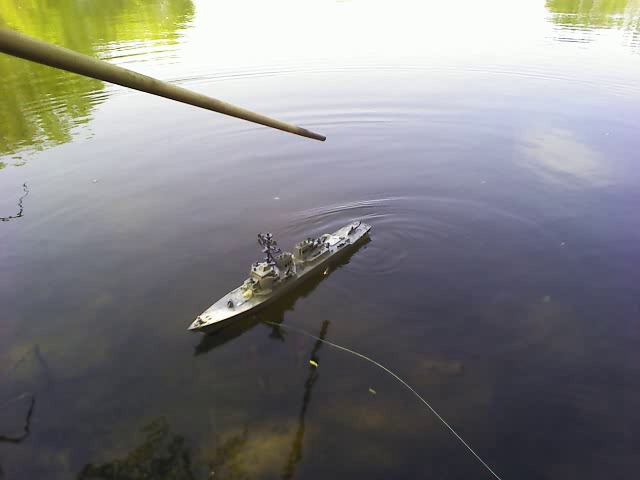warship: (172, 217, 381, 341)
